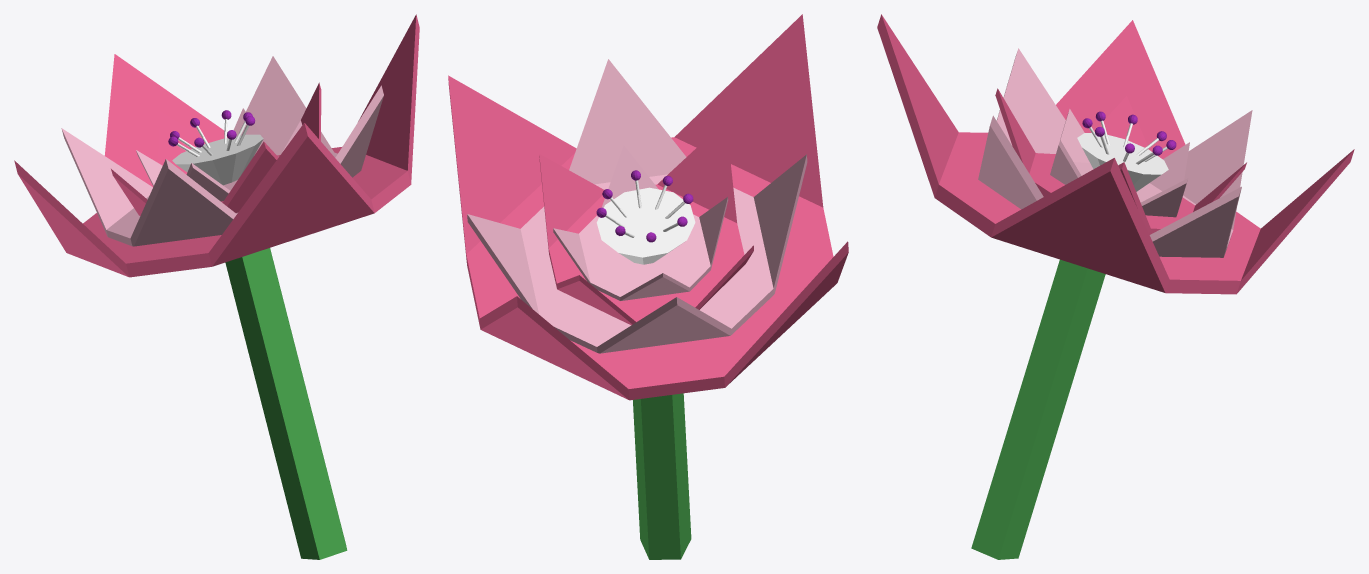
Rendered from Lotus.glb.
3 views of the same model, side by side, from view 1: azimuth 30°, elevation 25°; view 2: azimuth 150°, elevation 25°; view 3: azimuth 270°, elevation 25° (orthographic). The views are drawn at different scales.
Parts seen in each view (by area): view 1: group1460709046; view 2: group1460709046; view 3: group1460709046.
Part boxes in pixels (x1,y1,x2,y2): group1460709046: (14, 14, 419, 559); group1460709046: (448, 14, 848, 559); group1460709046: (877, 14, 1354, 559).
Size of the model in its own units: 0.9185 by 1.1 by 0.9445.
